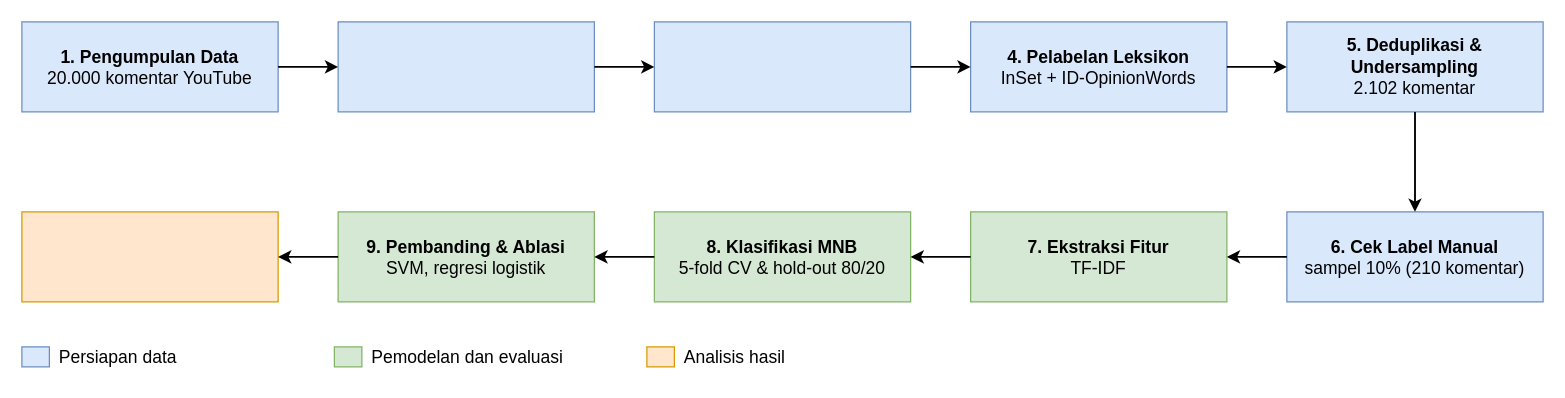
This 1565x398 diagram has some shape labels left out. Each missing label, with the centre of its shape:
"10. Analisis Hasil error, aspek, harian, prediksi" belongs at pixel 149 256.
"2. Pembersihan Awal 19.122 komentar" belongs at pixel 465 66.
"3. Preprocessing cleansing s.d. stemming" belongs at pixel 782 66.
